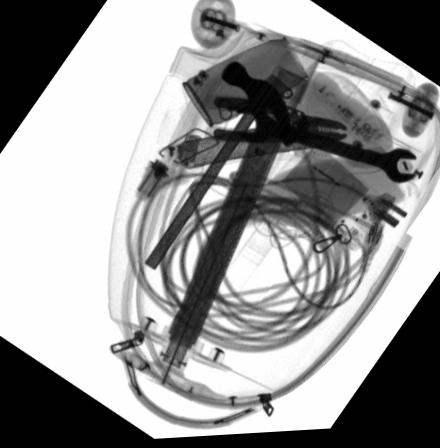Hammer: (141, 63, 296, 272)
Pliers: (212, 98, 348, 148)
Powerbank: (278, 143, 397, 256)
Wrench: (234, 104, 419, 188)
